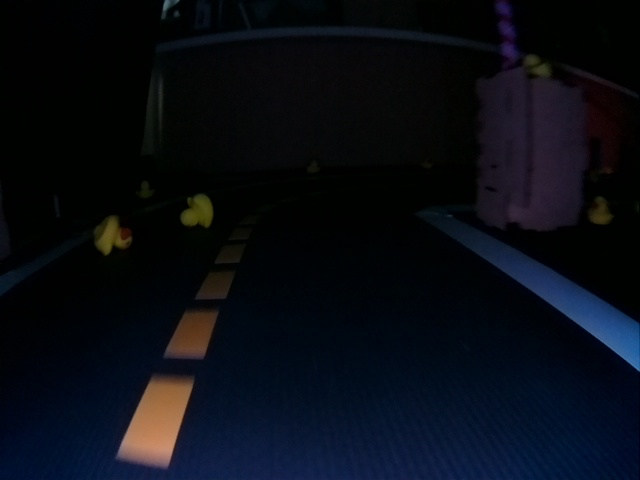Duckie: (94, 216, 131, 255), (181, 195, 213, 228), (588, 197, 611, 224), (526, 55, 551, 76), (139, 182, 152, 199), (307, 162, 317, 170)
